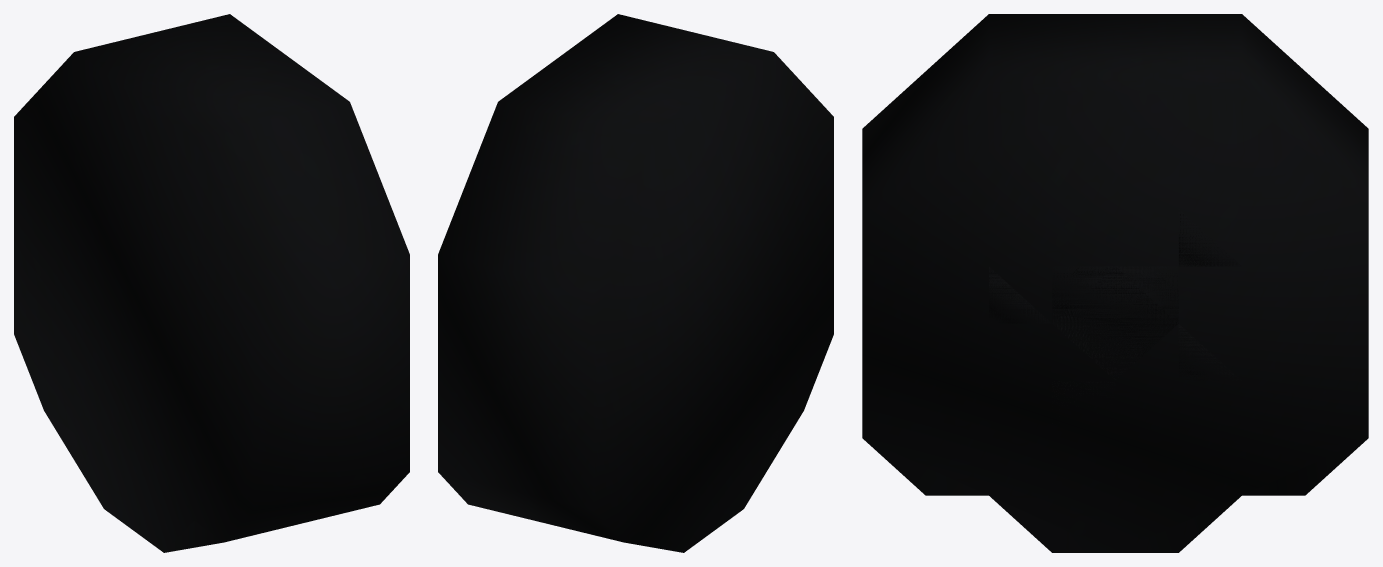
3 renders of one model, left to right at view 1: azimuth 30°, elevation 25°; view 2: azimuth 150°, elevation 25°; view 3: azimuth 270°, elevation 25°, orthographic. The views are drawn at different scales.
Bounding box in the file's own units: 0.24 × 0.64 × 0.64.
1 material, 1 textured.
